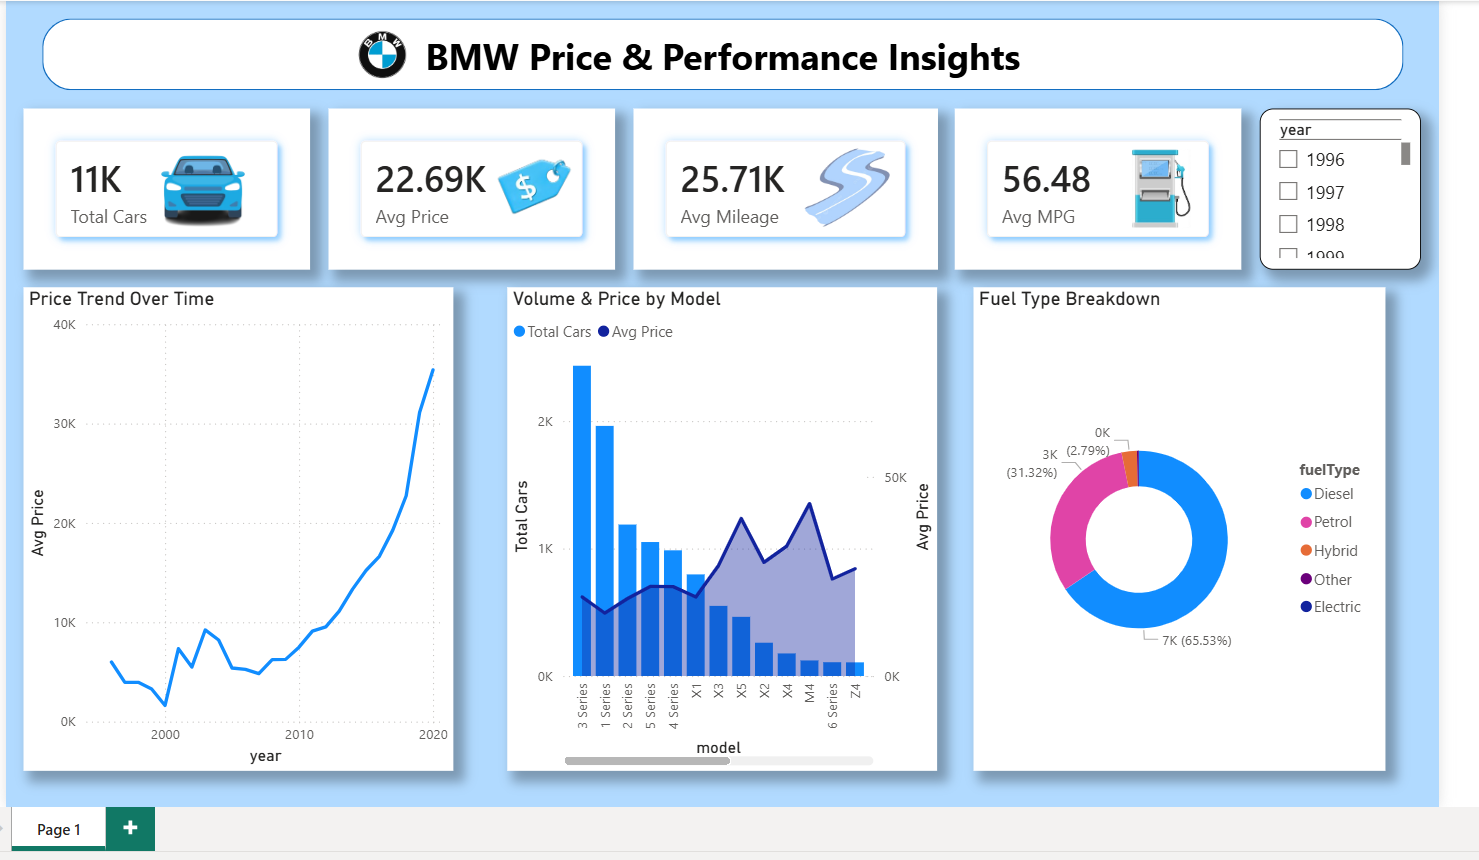

The page's visual inventory and layout, read from the dashboard file:
{"tool":"powerbi","page":{"name":"Page 1","canvas":[1280,720],"ordinal":0},"visuals":[{"type":"cardVisual","fields":{"Data":["bmw.Total Cars"]},"box":[16,96,256,144],"z":0},{"type":"cardVisual","fields":{"Data":["bmw.Avg Price"]},"box":[288,96,256,144],"z":1000},{"type":"cardVisual","fields":{"Data":["bmw.Avg Mileage"]},"box":[560,96,272,144],"z":2000},{"type":"cardVisual","fields":{"Data":["bmw.Avg MPG"]},"box":[848,96,256,144],"z":3000},{"type":"slicer","title":"year","fields":{"Values":["bmw.year"]},"box":[1120,96,144,144],"z":4000},{"type":"lineChart","title":"Price Trend Over Time","fields":{"Category":["bmw.year"],"Y":["bmw.Avg Price"]},"box":[16,256,384,432],"z":5000},{"type":"lineStackedColumnComboChart","title":"Volume & Price by Model","fields":{"Y2":["bmw.Avg Price"],"Y":["bmw.Total Cars"],"Category":["bmw.model"]},"box":[448,256,384,432],"z":6000},{"type":"donutChart","title":"Fuel Type Breakdown","fields":{"Category":["bmw.fuelType"],"Y":["bmw.Total Cars"]},"box":[864,256,368,432],"z":7000},{"type":"shape","box":[32,16,1216,64],"z":8000},{"type":"image","box":[288,0,96,96],"z":8001},{"type":"image","box":[96,112,160,96],"z":8002},{"type":"image","box":[368,80,208,160],"z":8003},{"type":"image","box":[672,128,160,80],"z":8004},{"type":"image","box":[928,64,208,208],"z":8005}]}

Visuals, with their boxes in screenshot pixels (x1, y1, x2, y2):
cardVisual - bmw.Total Cars: {"x1": 7, "y1": 102, "x2": 298, "y2": 266}
cardVisual - bmw.Avg Price: {"x1": 317, "y1": 102, "x2": 608, "y2": 266}
cardVisual - bmw.Avg Mileage: {"x1": 627, "y1": 102, "x2": 937, "y2": 266}
cardVisual - bmw.Avg MPG: {"x1": 955, "y1": 102, "x2": 1246, "y2": 266}
"year" slicer: {"x1": 1265, "y1": 102, "x2": 1429, "y2": 266}
"Price Trend Over Time" lineChart: {"x1": 7, "y1": 284, "x2": 444, "y2": 776}
"Volume & Price by Model" lineStackedColumnComboChart: {"x1": 499, "y1": 284, "x2": 937, "y2": 776}
"Fuel Type Breakdown" donutChart: {"x1": 973, "y1": 284, "x2": 1392, "y2": 776}
shape: {"x1": 25, "y1": 11, "x2": 1411, "y2": 83}
image: {"x1": 317, "y1": 0, "x2": 426, "y2": 102}
image: {"x1": 98, "y1": 120, "x2": 280, "y2": 229}
image: {"x1": 408, "y1": 83, "x2": 645, "y2": 266}
image: {"x1": 754, "y1": 138, "x2": 937, "y2": 229}
image: {"x1": 1046, "y1": 65, "x2": 1283, "y2": 302}
